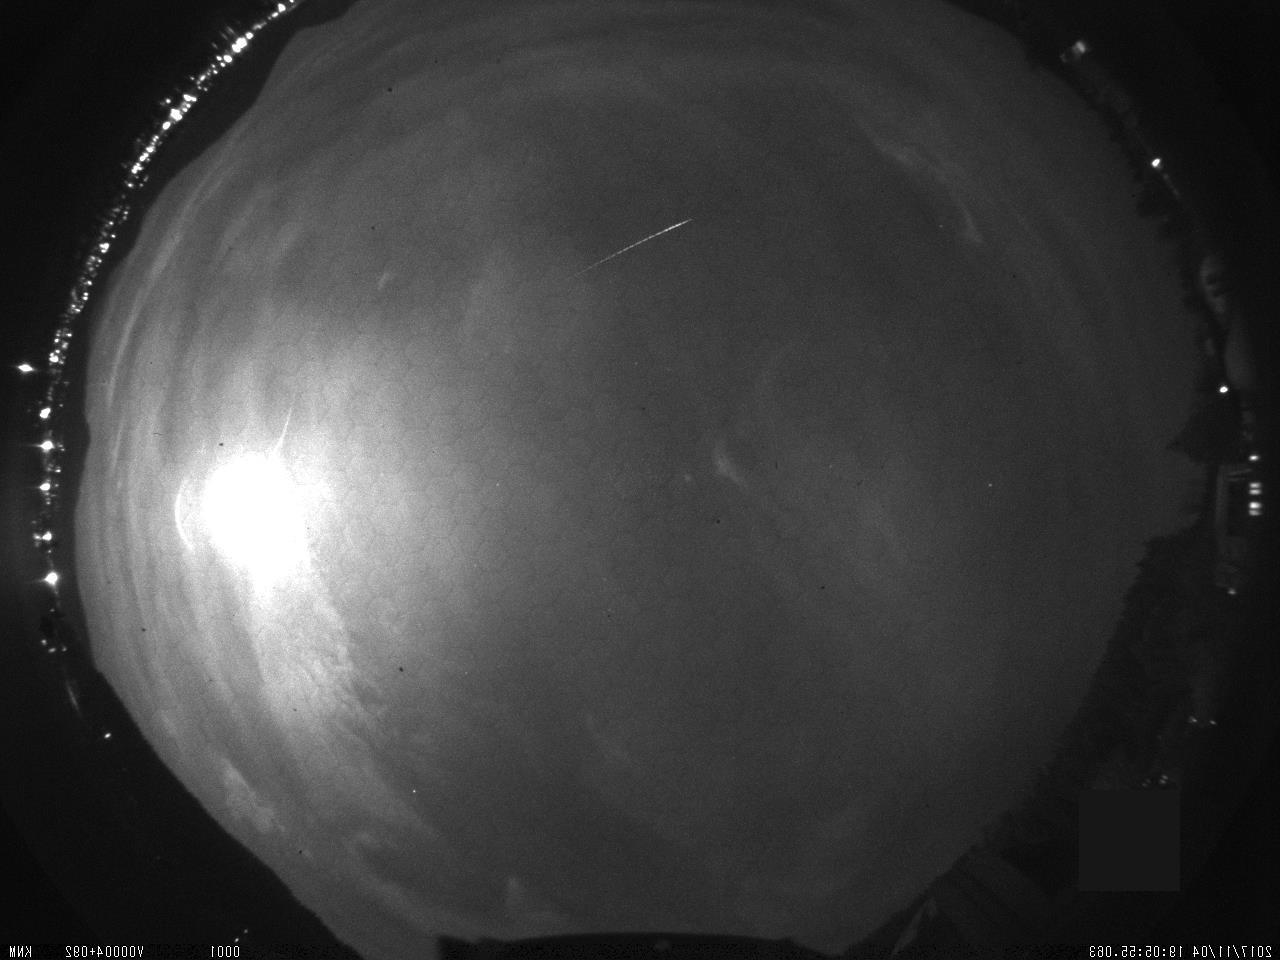meteor: (506, 197, 729, 309)
